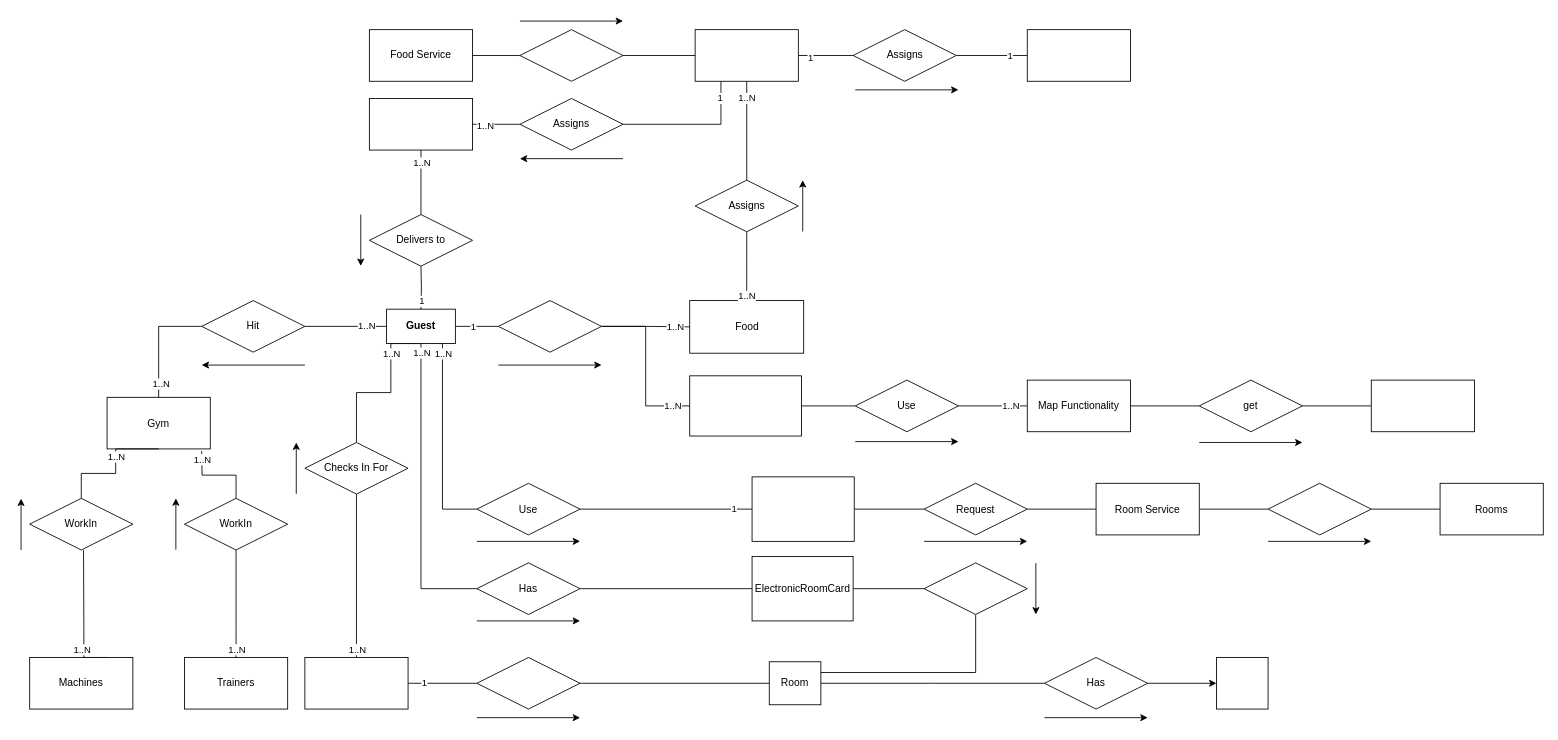
This 1558x740 diagram has some shape labels left out. The box of each missing label's shape, as (x1, y1, x2, y2) in pixels:
Assign: (476, 657, 580, 709)
Clean: (1267, 482, 1371, 535)
Composite: (519, 29, 623, 81)
Delivery Person: (369, 98, 473, 150)
Front Desk Agent: (304, 657, 408, 709)
Guest App: (751, 476, 854, 541)
In-Room-Dining-Restaraunt: (1026, 29, 1130, 81)
Opens: (923, 562, 1027, 614)
Order: (498, 300, 602, 352)
Restaraunt: (694, 29, 798, 81)
Ride: (1370, 379, 1474, 432)
RideReservation: (689, 375, 802, 436)
Wifi: (1216, 657, 1268, 709)
